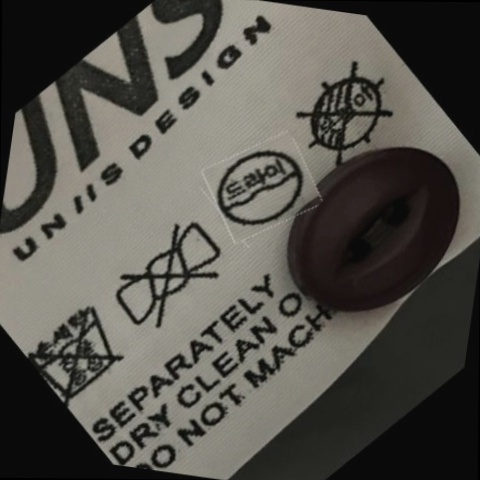DN_dry: (293, 61, 397, 166)
DN_wring: (110, 220, 227, 336)
dry_clean: (215, 140, 308, 237)
hand_wash: (31, 295, 129, 402)
